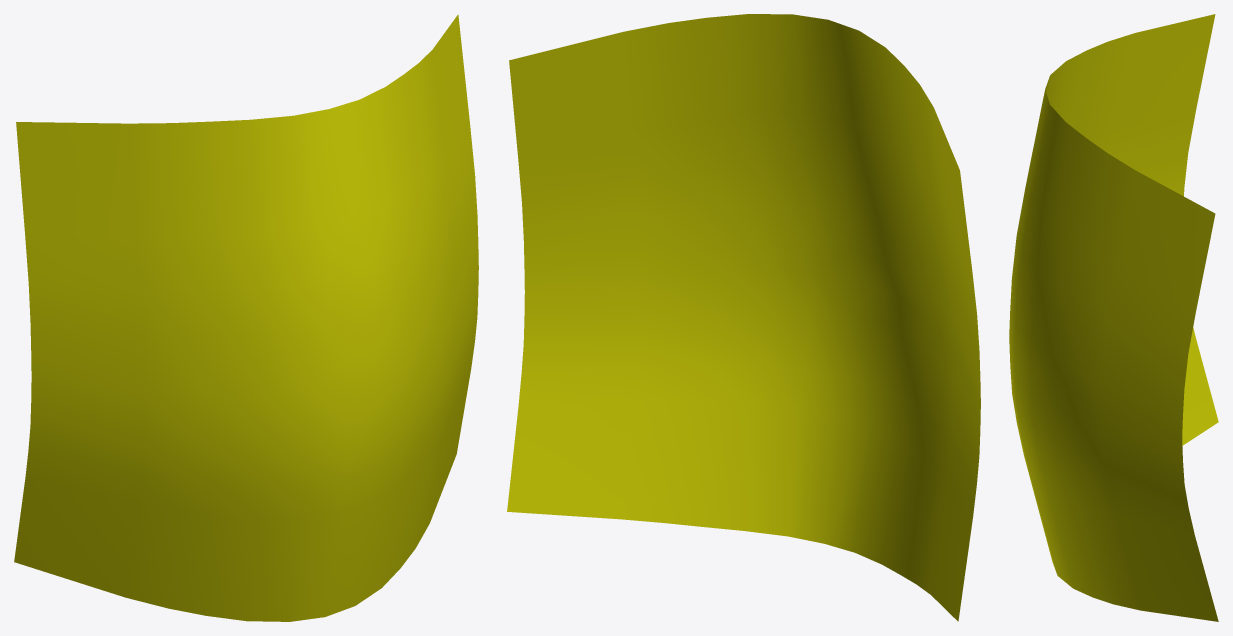
Rendered from Mask_3.glb.
3 renders of one model, left to right at view 1: azimuth 30°, elevation 25°; view 2: azimuth 150°, elevation 25°; view 3: azimuth 270°, elevation 25°, orthographic. The views are drawn at different scales.
Bounding box in the file's own units: 91.86 × 100 × 40.3.
